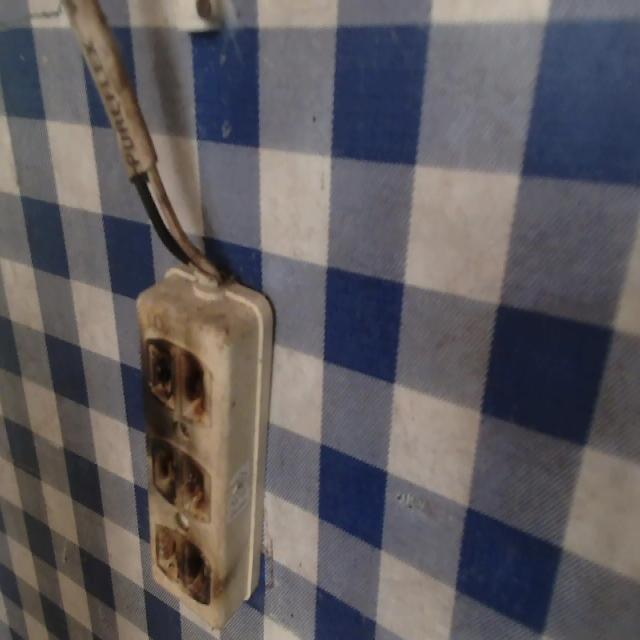-: (140, 334, 212, 426), (148, 431, 215, 525), (152, 524, 211, 605)
